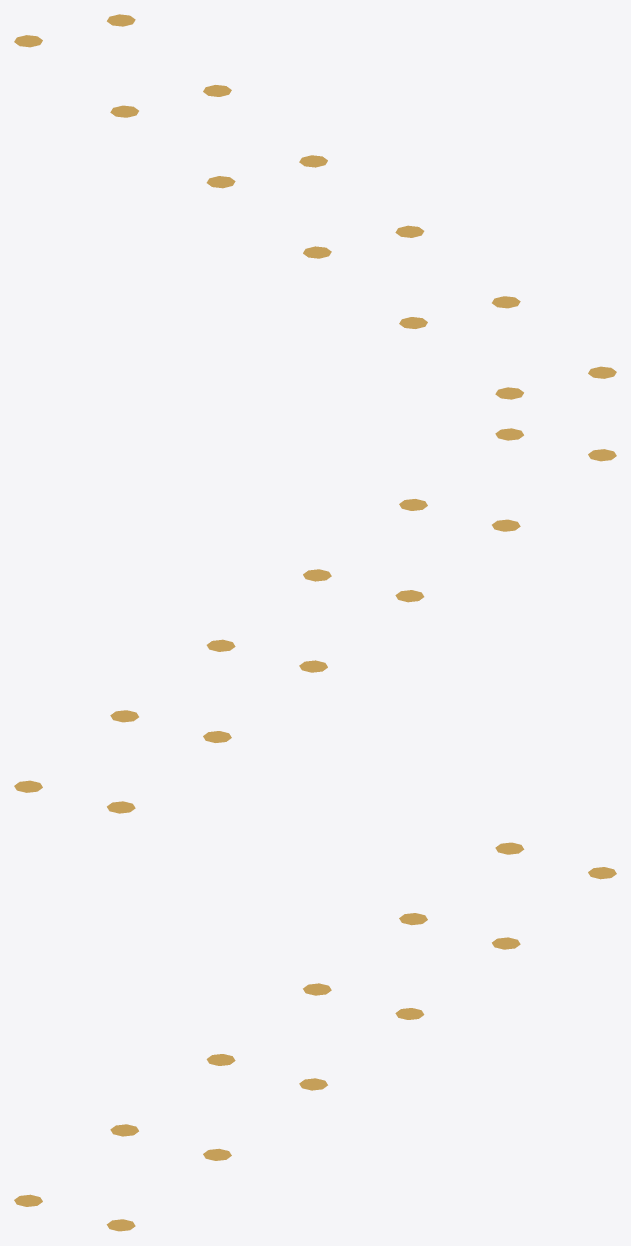
Rendered from RoadPlan_AccessibleTactile_W2.glb.
3 renders of one model, top to bottom at view 1: azimuth 30°, elevation 25°; view 2: azimuth 150°, elevation 25°; view 3: azimuth 330°, elevation 25°, orthographic.
Parts seen in each view (by area): view 1: RoadPlan_AccessibleTactile_W2_TactileCassette_0; view 2: RoadPlan_AccessibleTactile_W2_TactileCassette_0; view 3: RoadPlan_AccessibleTactile_W2_TactileCassette_0.
Part boxes in pixels (x1,y1,x2,y2): RoadPlan_AccessibleTactile_W2_TactileCassette_0: [14, 14, 616, 399]; RoadPlan_AccessibleTactile_W2_TactileCassette_0: [14, 428, 616, 813]; RoadPlan_AccessibleTactile_W2_TactileCassette_0: [14, 842, 616, 1231].
Bounding box in the file's own units: 0.2007 × 0.00309 × 1.48.
